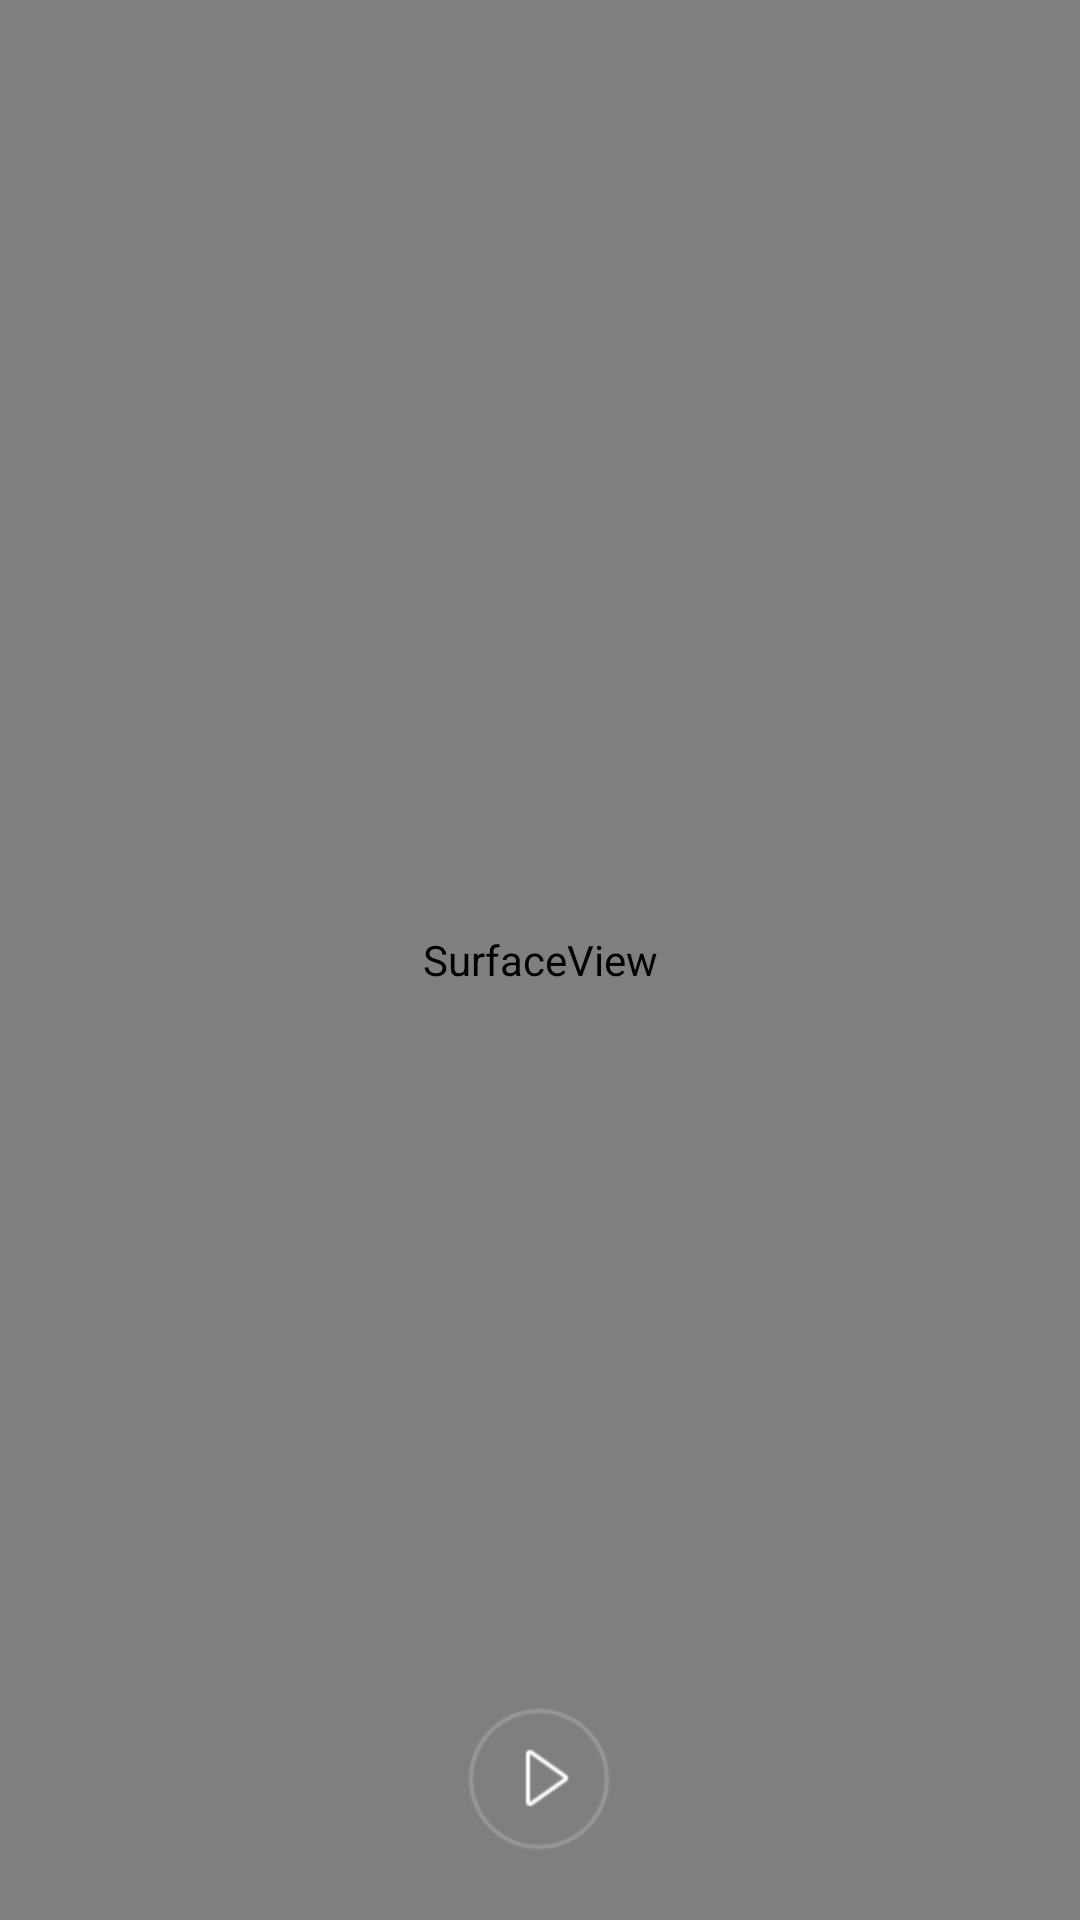

Locate icon controls on the screen. Image size 1080w x 1920h, boxes as [x1,y1,x2,y2].
play: [471,1711,607,1847]
